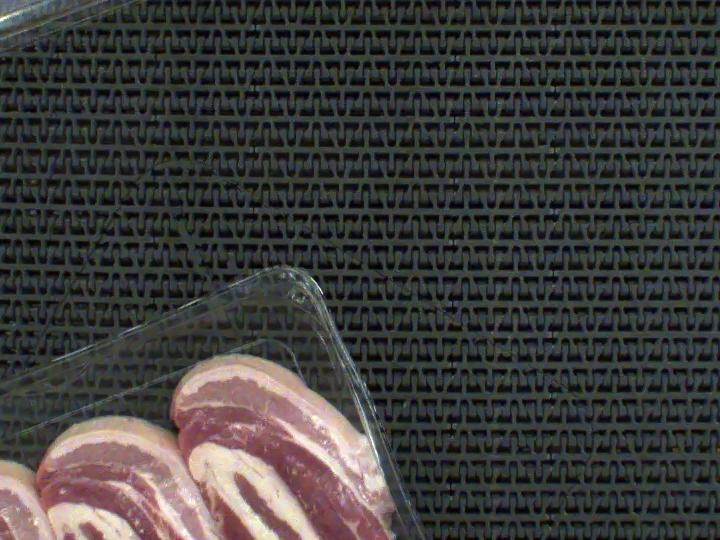packaging-error: (351, 398, 409, 540)
